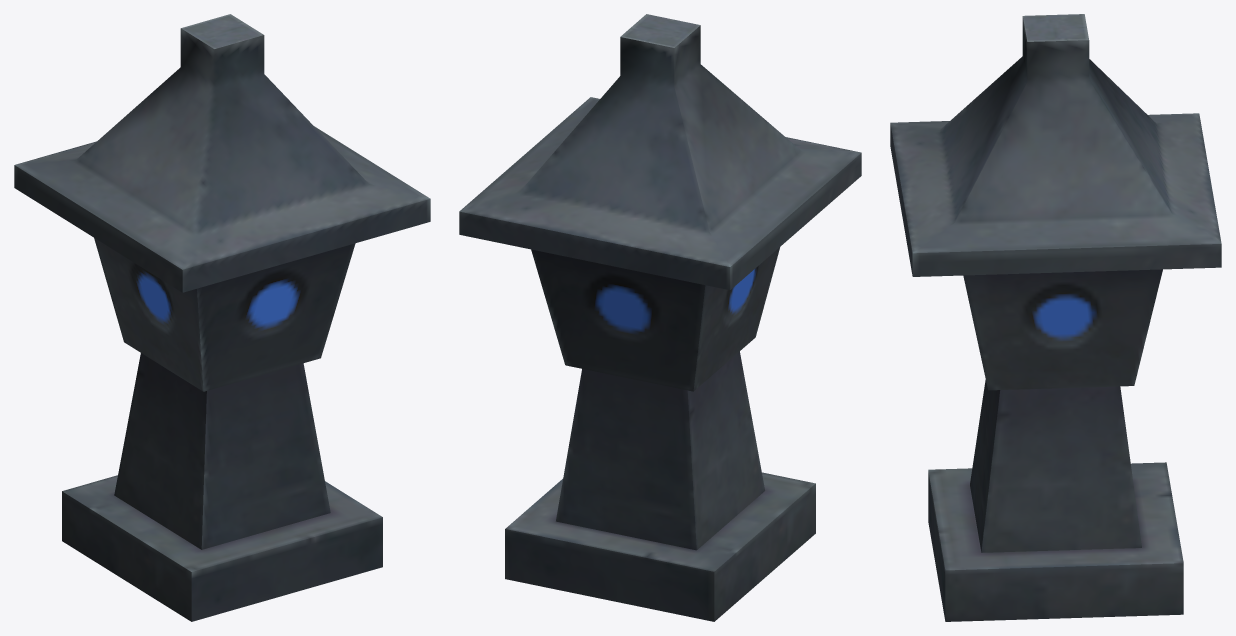
File: Area_02_18.fbx
3 views of the same model, side by side, from view 1: azimuth 30°, elevation 25°; view 2: azimuth 150°, elevation 25°; view 3: azimuth 270°, elevation 25° (orthographic). The views are drawn at different scales.
Visible parts, largest first — view 1: Area_02_18; view 2: Area_02_18; view 3: Area_02_18.
Part boxes in pixels (x1,y1,x2,y2): Area_02_18: [14, 14, 430, 621]; Area_02_18: [459, 14, 861, 621]; Area_02_18: [890, 14, 1221, 621].
Bounding box in the file's own units: 178 × 320 × 178.
